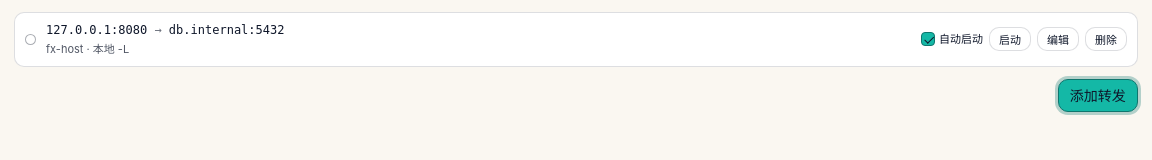
it: 列表与运行面 › 启动：pf_start 带 rustId，成功后面板回显 runtime
What coordinates should you click on to do the following:
click the button with test id "forward-start-11"
I would click on:
 (1010, 39)
Its box is top-left (989, 27), bottom-right (1031, 51).
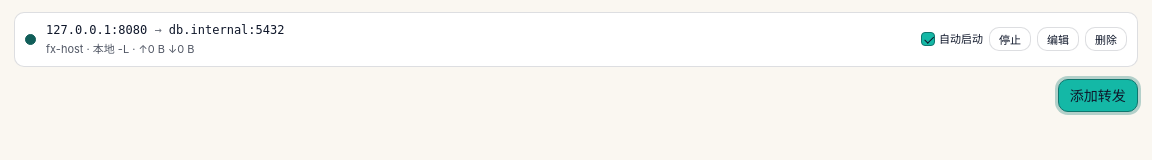
Expected: the button with test id "forward-stop-11" is shown, top-left (989, 27), bottom-right (1031, 51)
